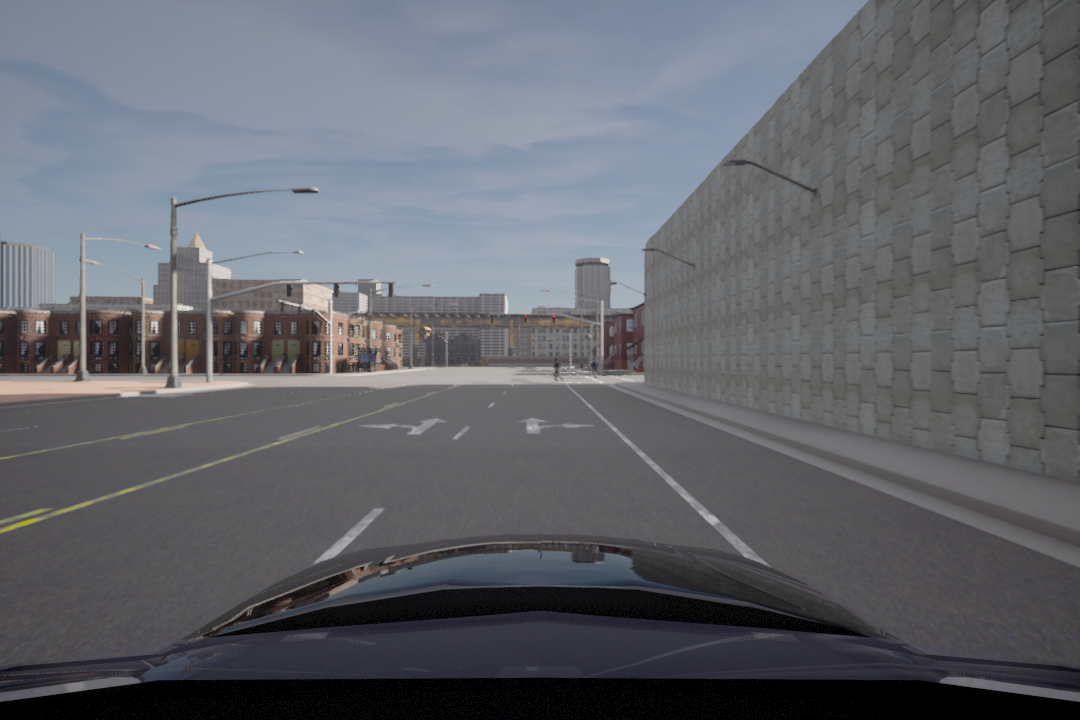RoadSign_forward_left: (361, 414, 449, 437)
RoadSign_forward_right: (514, 411, 596, 441)
